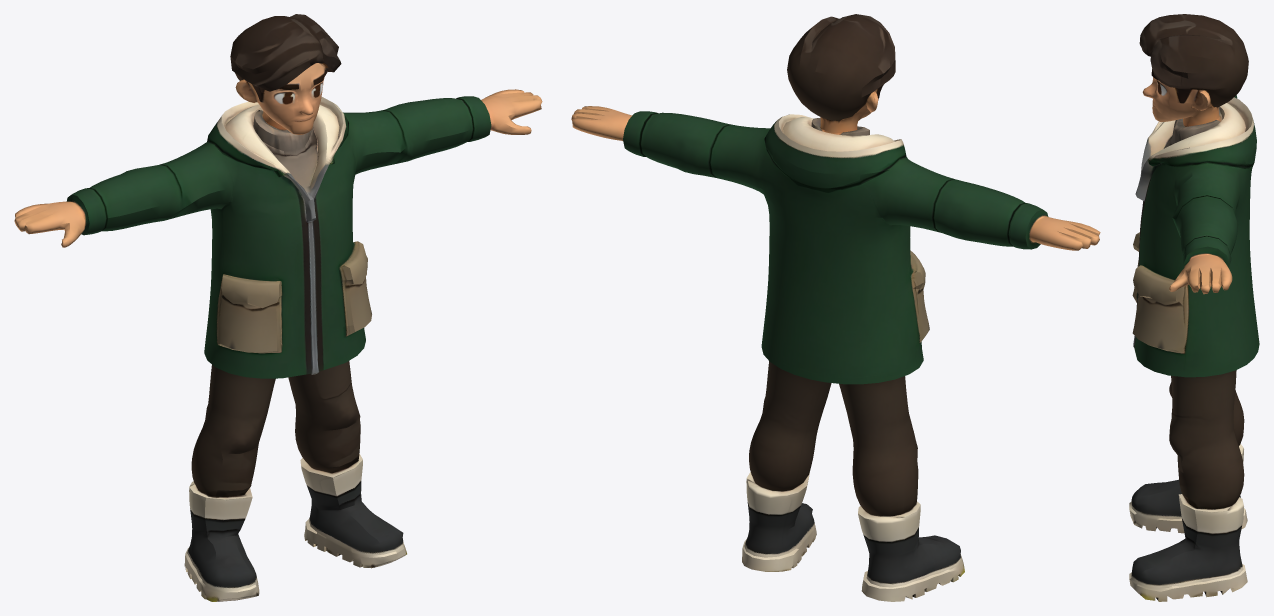
Rendered from male_elite.obj.
The picture shows the model from 3 angles, left to right: view 1: azimuth 30°, elevation 25°; view 2: azimuth 150°, elevation 25°; view 3: azimuth 270°, elevation 25°; orthographic projection.
Parts seen in each view (by area): view 1: model; view 2: model; view 3: model.
Boxes of the visible parts, bbox=[...] form: model: bbox=[14, 14, 542, 601]; model: bbox=[571, 14, 1100, 601]; model: bbox=[1129, 14, 1259, 601].
Size of the model in its own units: 1.72 by 1.71 by 0.3753.
Materials: 1 (1 with a texture image).
